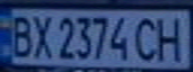2: (54, 12, 75, 61)
3: (72, 12, 93, 61)
4: (109, 14, 133, 62)
7: (90, 12, 112, 61)
B: (6, 11, 36, 58)
C: (130, 15, 163, 63)
H: (151, 12, 190, 63)
X: (27, 11, 57, 61)
